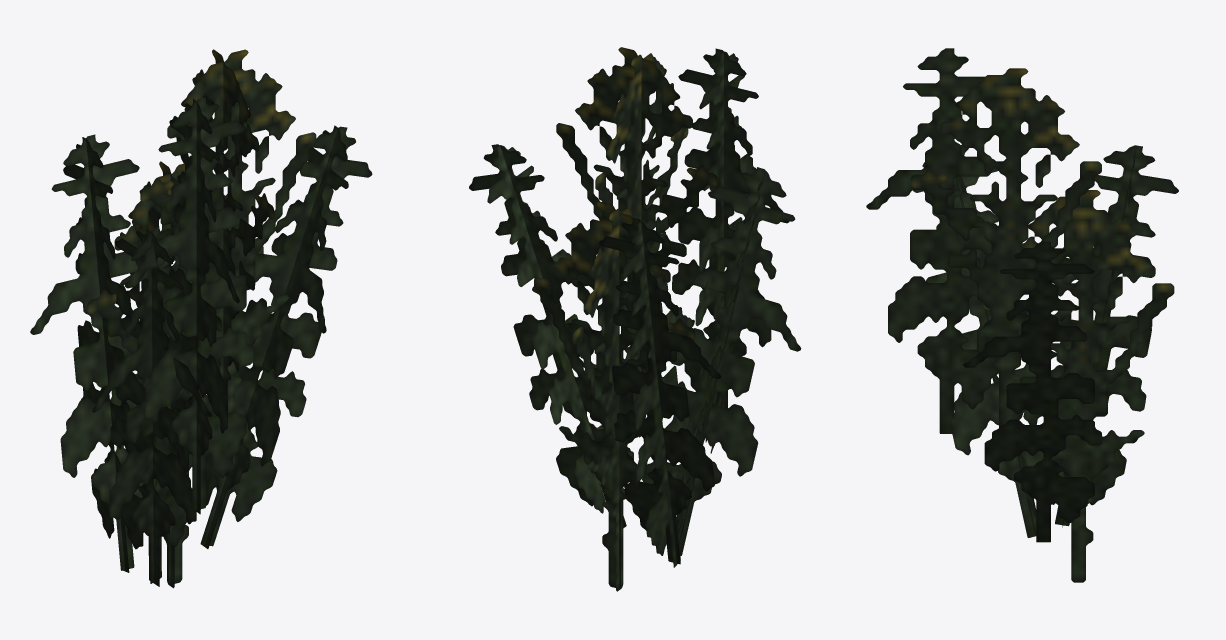
The model's file is SM_EC_Plant_Bush_09.fbx.
3 views of the same model, side by side, from view 1: azimuth 30°, elevation 25°; view 2: azimuth 150°, elevation 25°; view 3: azimuth 270°, elevation 25° (orthographic). The views are drawn at different scales.
Parts seen in each view (by area): view 1: SM_EC_Plant_Bush_09; view 2: SM_EC_Plant_Bush_09; view 3: SM_EC_Plant_Bush_09.
Boxes of the visible parts, x1=… form: SM_EC_Plant_Bush_09: x1=30, y1=49, x2=372, y2=588; SM_EC_Plant_Bush_09: x1=469, y1=47, x2=801, y2=591; SM_EC_Plant_Bush_09: x1=866, y1=48, x2=1178, y2=582.
Bounding box in the file's own units: 0.8698 × 0.7336 × 1.23.
